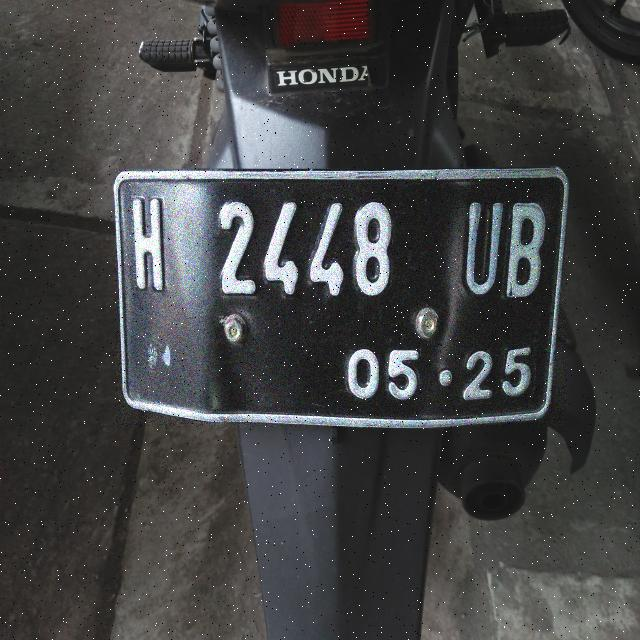plate: (115, 170, 566, 426)
